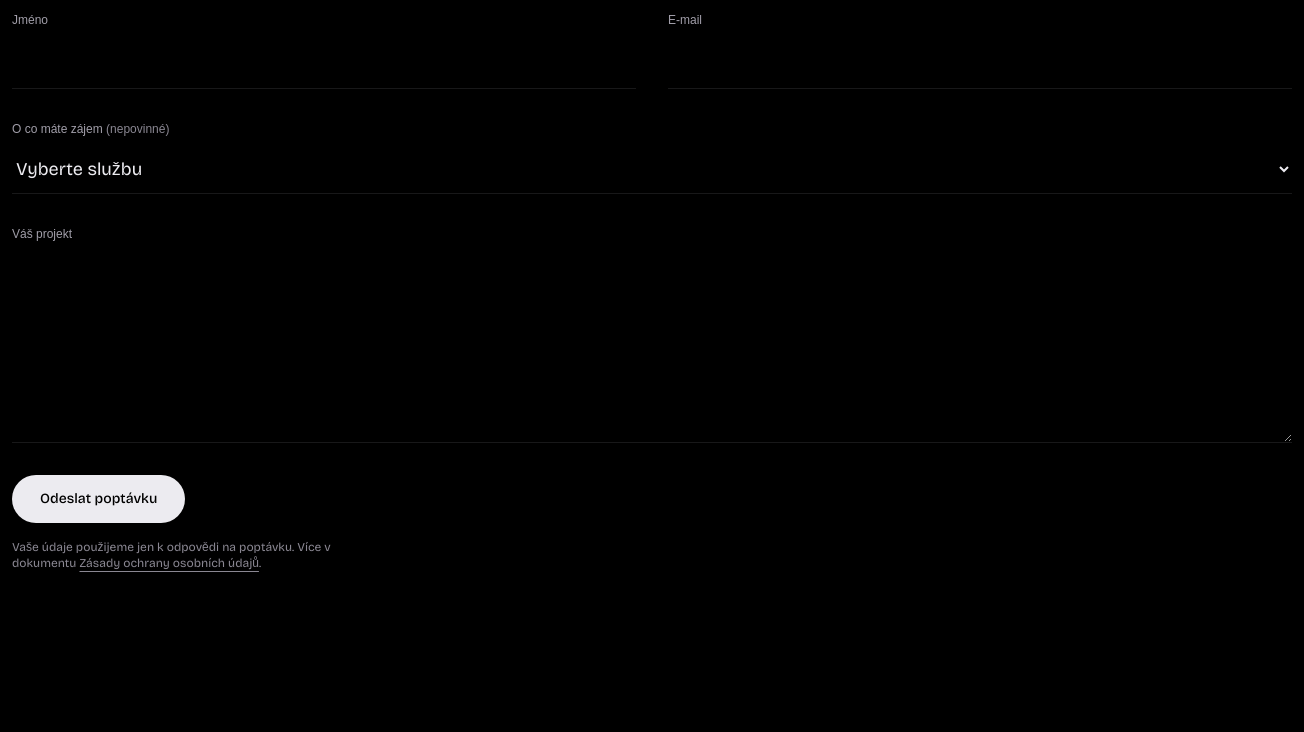
Test: InquiryForm › shows field errors and keeps everything the visitor typed
The width and height of the screenshot is (1304, 732).
Type "Jana Nováková" into the field labelled "Jméno". click: (324,62)
box: x1=12 y1=36 x2=636 y2=89
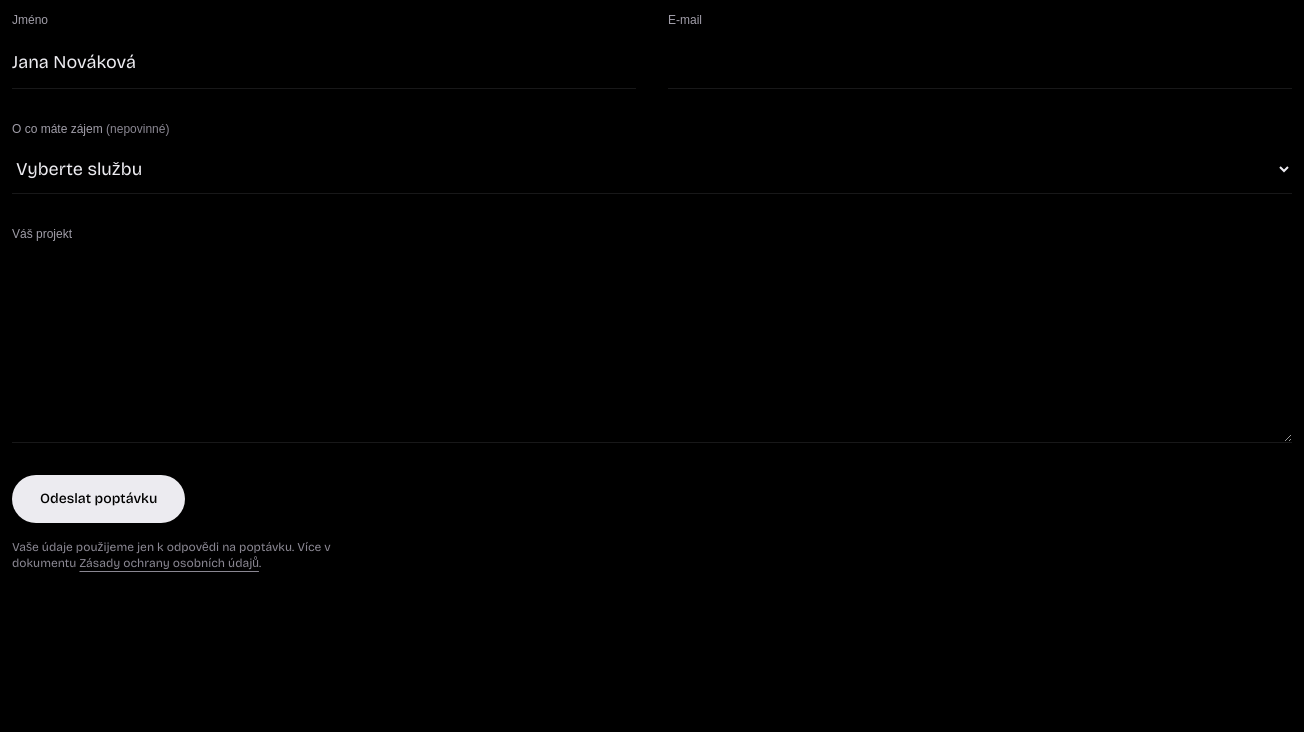
Type "jana@example.cz" into the field labelled "E-mail". click: (980,62)
box: x1=668 y1=36 x2=1292 y2=89
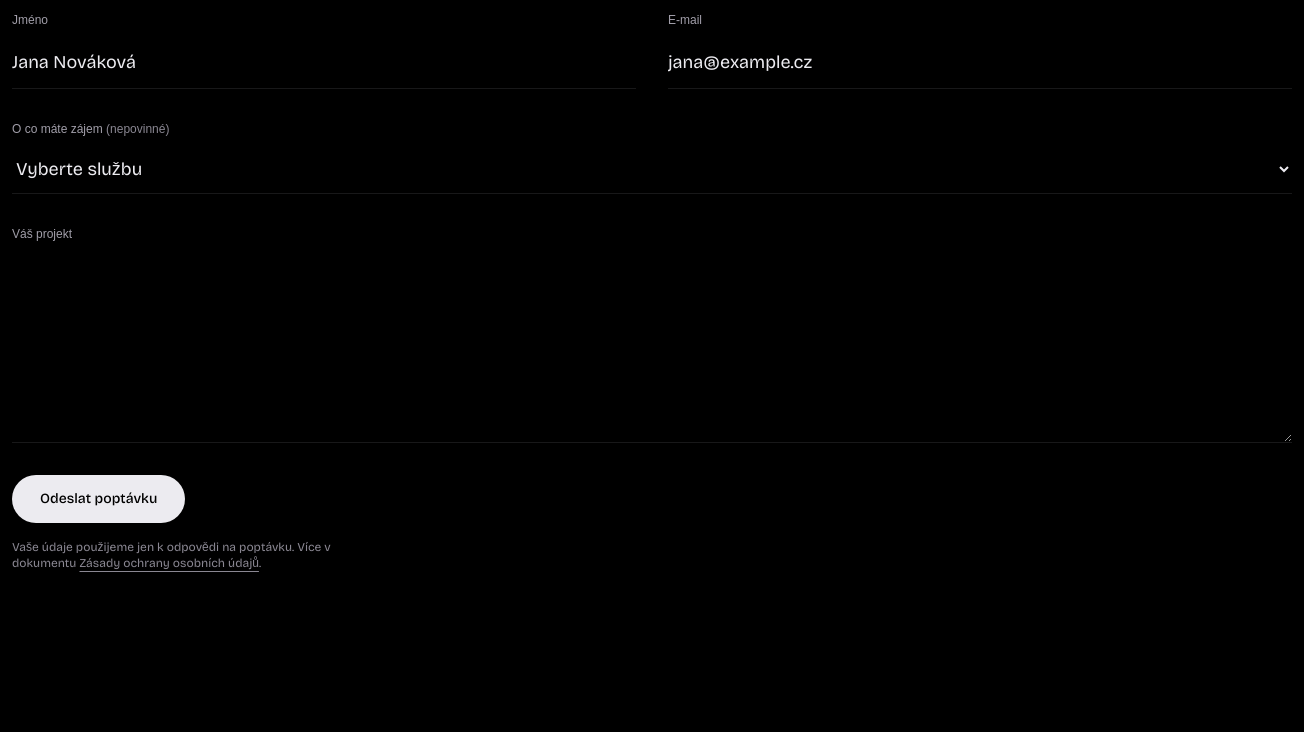
Type "Potřebujeme nový web pro kavárnu." into the text box labelled "Váš projekt". click: (652,346)
box: x1=12 y1=250 x2=1292 y2=443
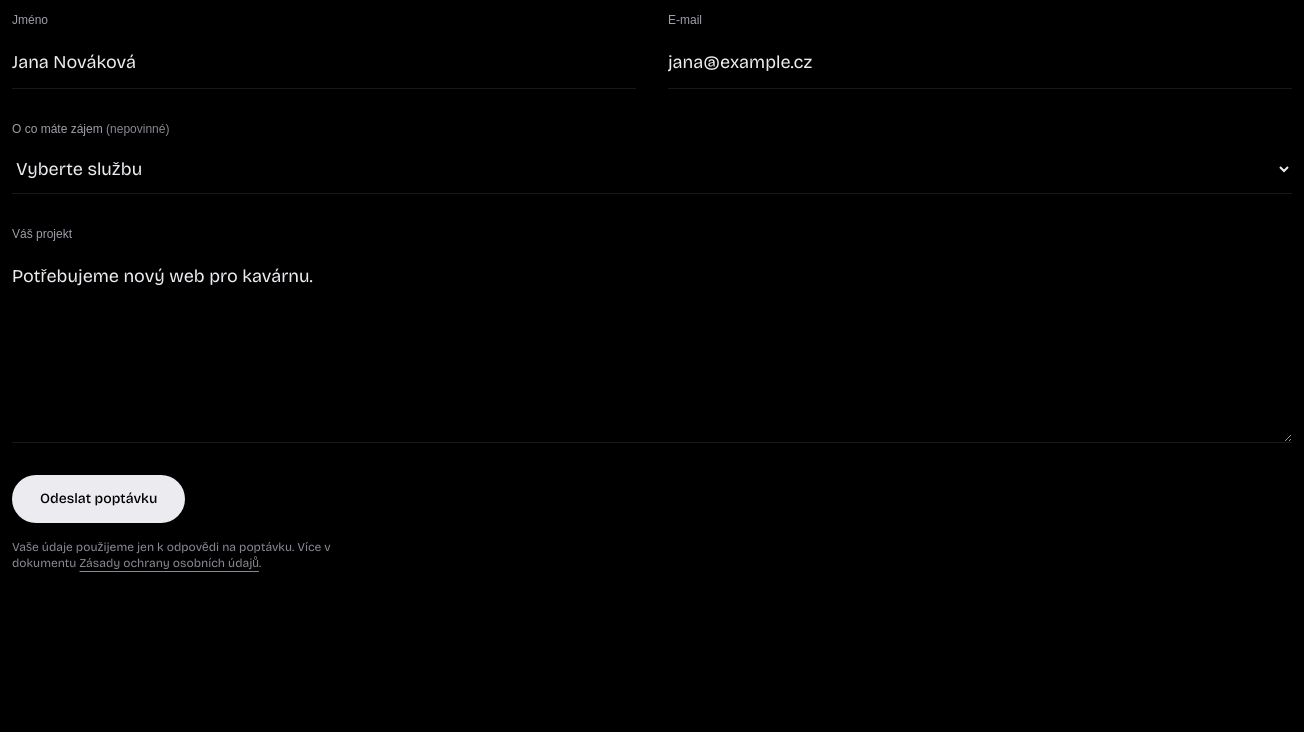
Submit the form named "Poptávkový formulář"
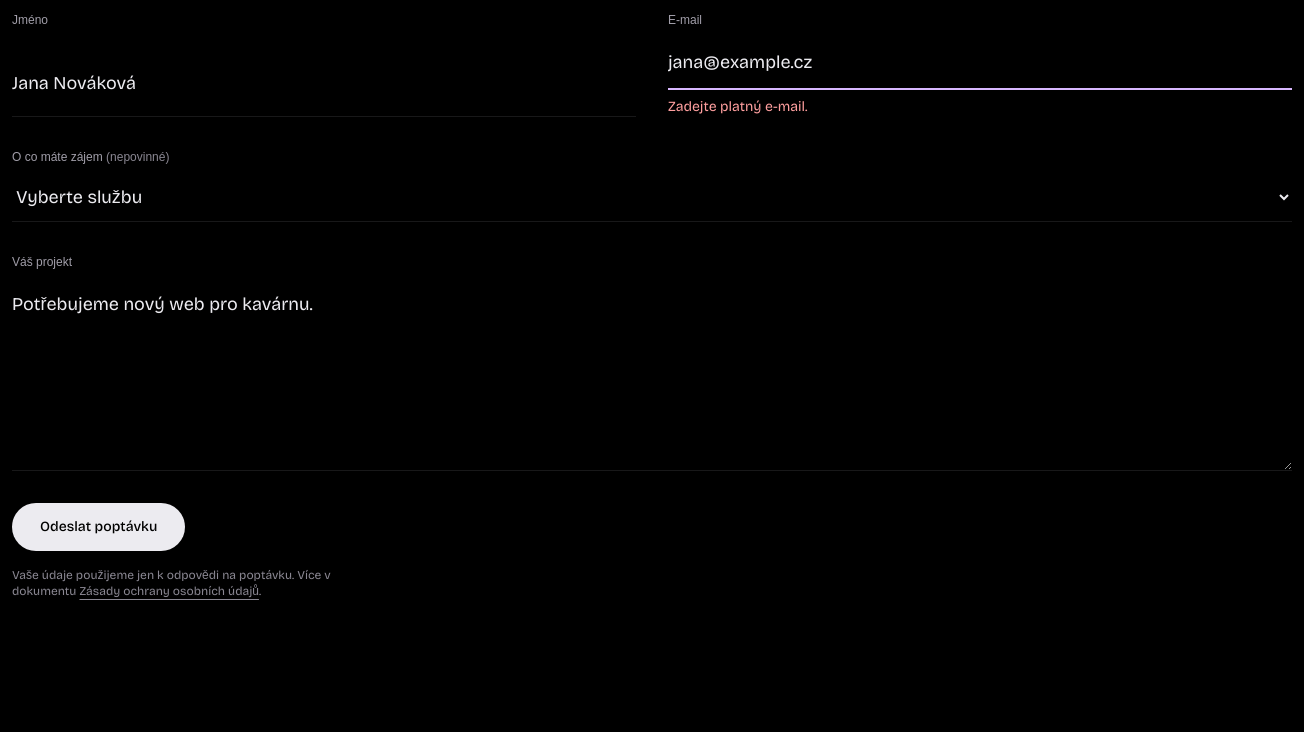
expect the text "Zadejte platný e-mail." is shown: met, box x1=668 y1=98 x2=807 y2=115
